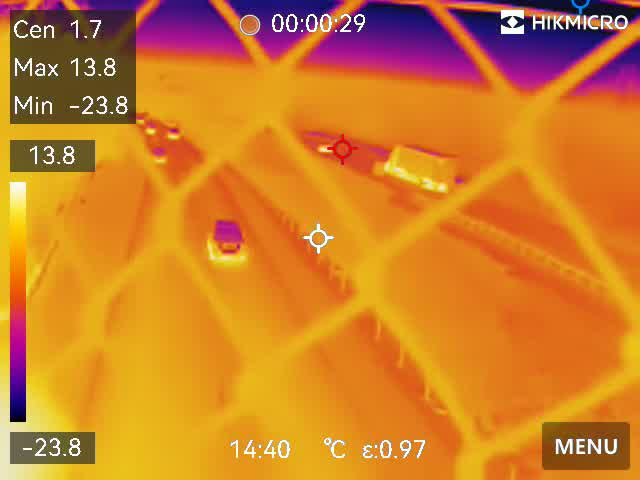heavyTruck: (382, 141, 459, 190)
vehicle: (208, 211, 246, 264), (164, 123, 184, 141), (152, 146, 168, 164), (133, 111, 145, 126), (145, 124, 158, 133)
